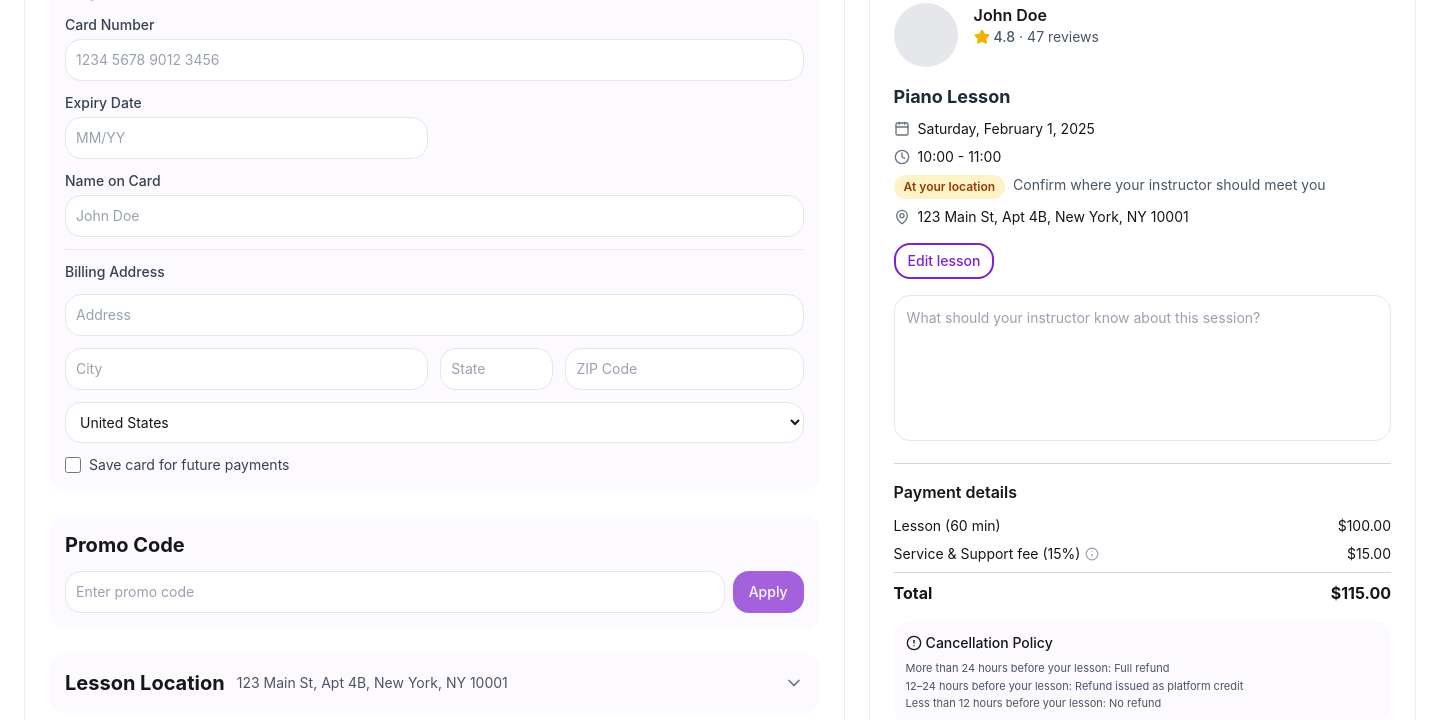
Test: PaymentConfirmation › address parsing › parses full address with apt number
Click the heading "Lesson Location" at (145, 683), box top-left (65, 669), bottom-right (225, 697)
(page scrolled)
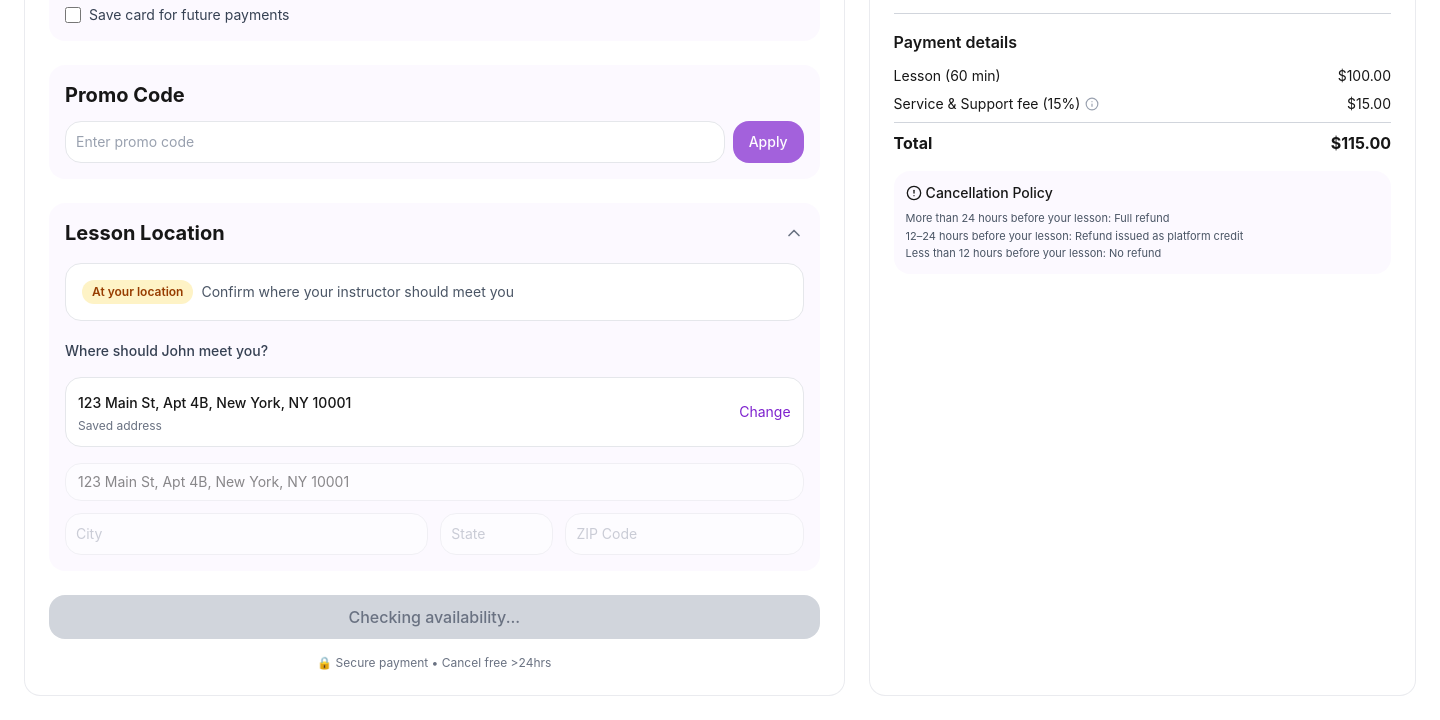
Result: the text "Saved address" is shown at top-left (78, 418), bottom-right (162, 433)
